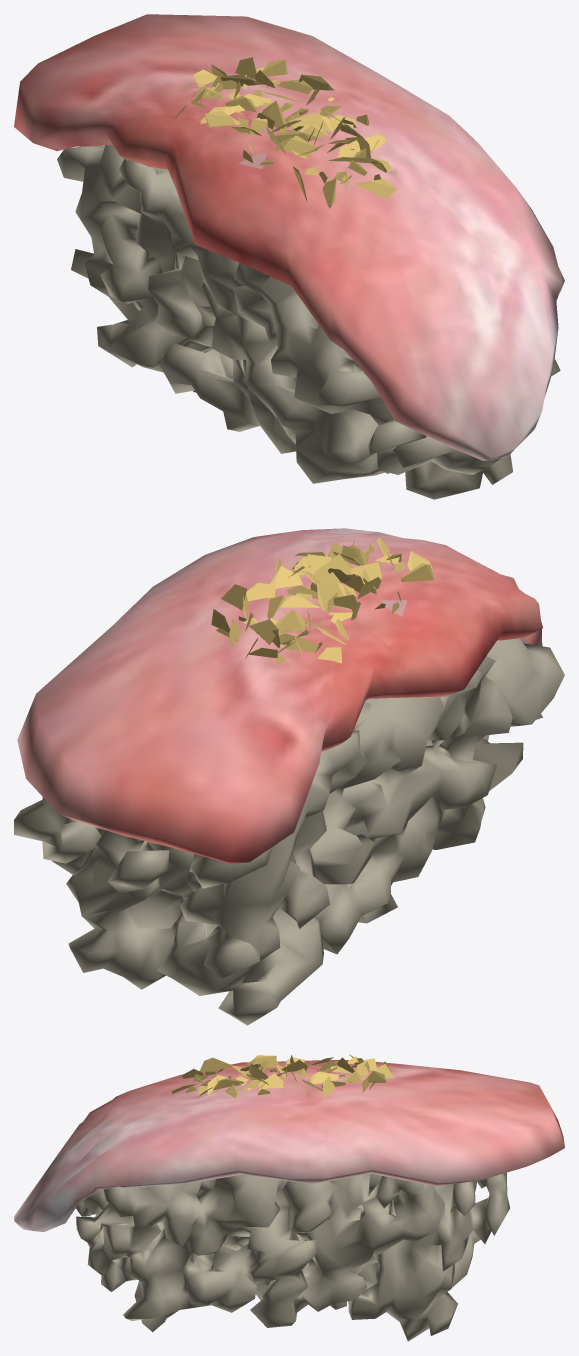
File: sushiToro.fbx
3 views of the same model, one above another, from view 1: azimuth 30°, elevation 25°; view 2: azimuth 150°, elevation 25°; view 3: azimuth 270°, elevation 25° (orthographic). The views are drawn at different scales.
Visible parts, largest first — view 1: SurfCurve, Mball; view 2: SurfCurve, Mball; view 3: Mball, SurfCurve.
Boxes of the visible parts, x1,y1,x2,y2 form: SurfCurve: (14,14,562,460); Mball: (57,145,564,499); SurfCurve: (17,528,542,863); Mball: (14,638,564,1025); Mball: (76,1172,509,1341); SurfCurve: (14,1060,564,1231).
Size of the model in its own units: 39.57 by 44.5 by 90.9.
